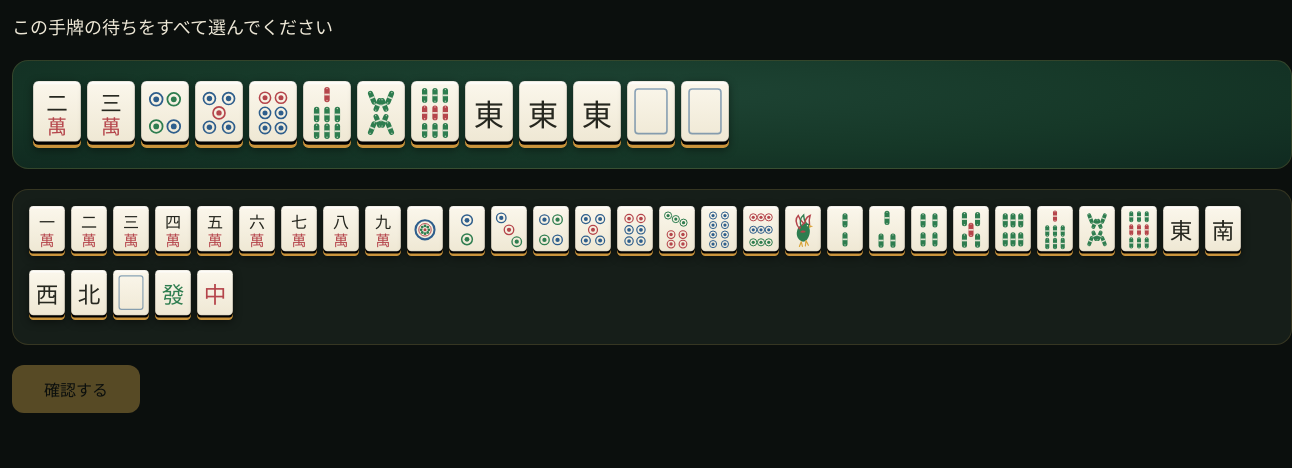
Scenario: SelectFromPaletteStepView waits-of-hand版 › 手牌が表示され待ち牌の選択で正解になる
Expected: the number of pictures named "二萬" is 2, [33, 81, 81, 148]; [71, 206, 107, 256]
Step 1. Click the button named "一萬" → (47, 231), box [29, 206, 65, 256]
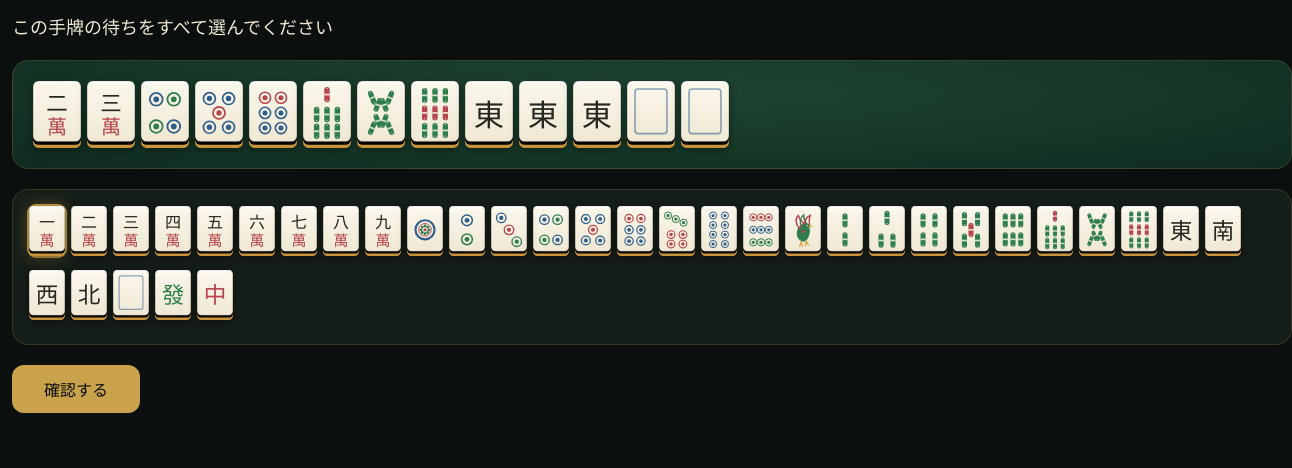
Step 2. Click the button named "四萬" → (173, 231), box [155, 206, 191, 256]
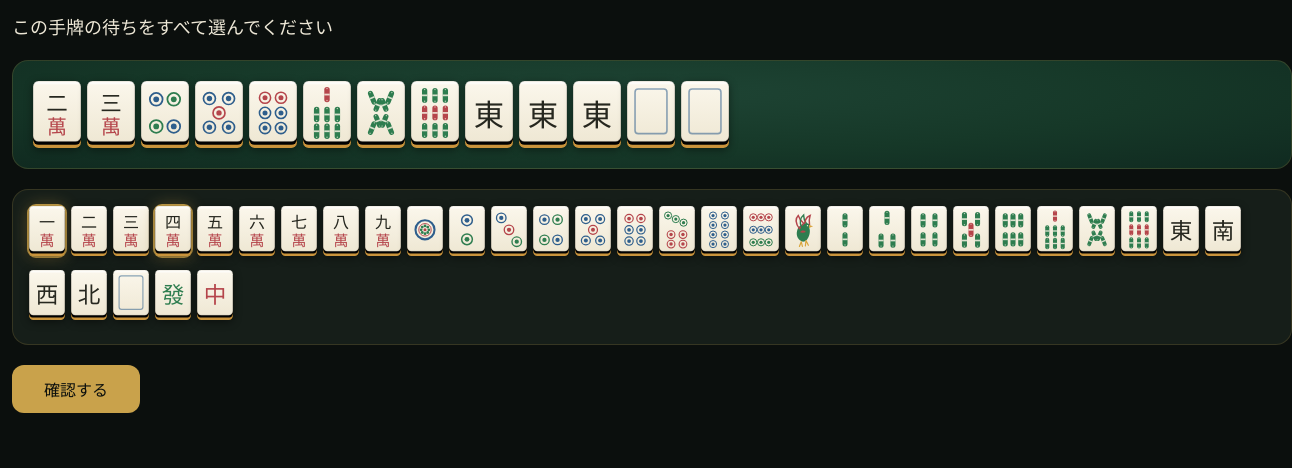
Step 3. Click the button "確認する" → (76, 389), box [12, 365, 140, 413]
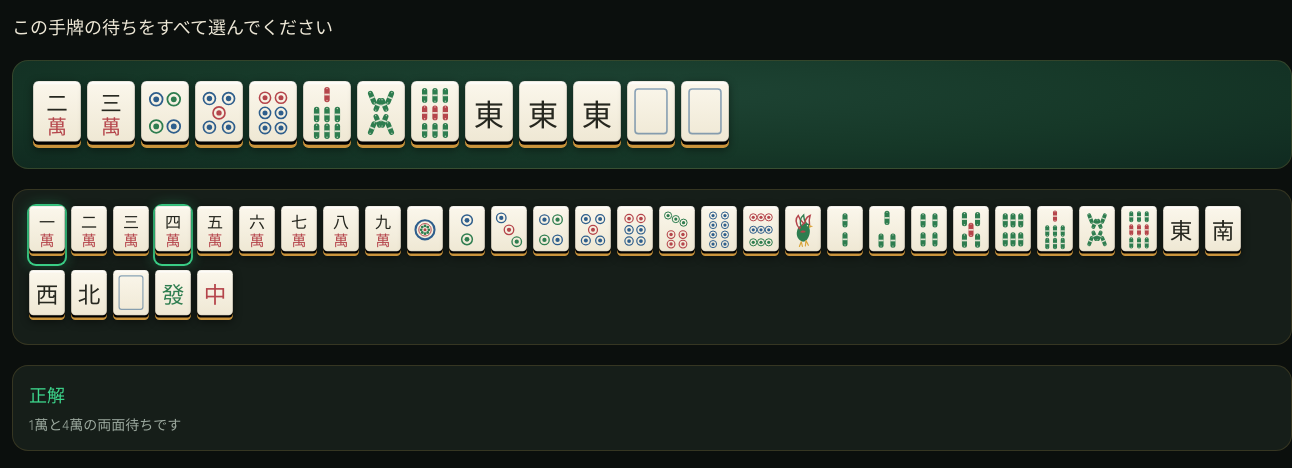
Now the text "正解" is shown, box [29, 386, 65, 406]
Now the text "1萬と4萬の両面待ちです" is shown, box [29, 414, 181, 434]
